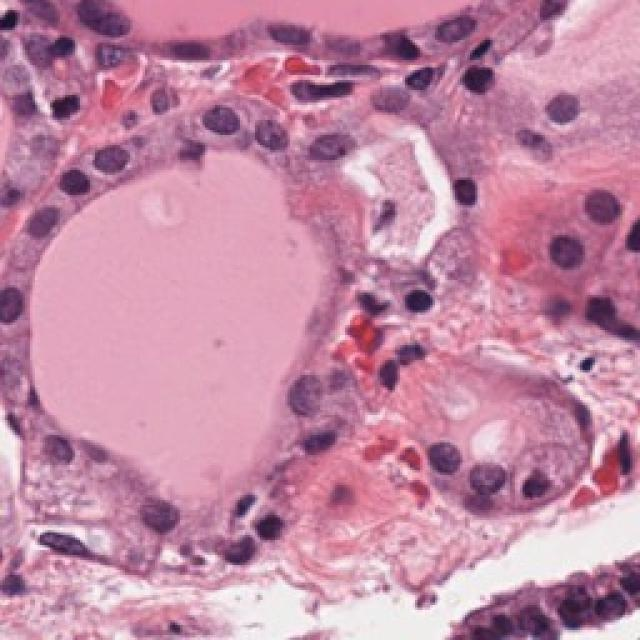normal: (281, 114, 370, 198), (461, 446, 528, 522), (191, 89, 261, 161), (231, 96, 293, 172), (410, 420, 468, 501), (533, 212, 583, 283), (17, 181, 57, 264), (88, 135, 137, 193), (0, 272, 34, 337)
